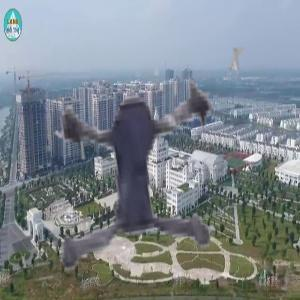drone: (2, 37, 265, 300)
